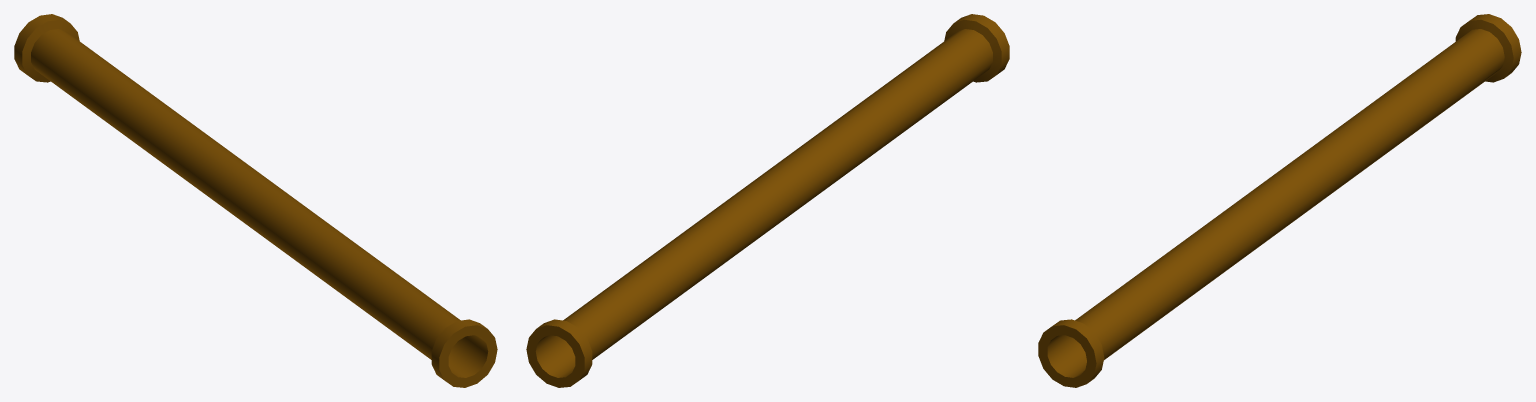
The model's file is PipePiece.fbx.
3 views of the same model, side by side, from view 1: azimuth 30°, elevation 25°; view 2: azimuth 150°, elevation 25°; view 3: azimuth 330°, elevation 25° (orthographic).
Parts seen in each view (by area): view 1: Pipe Piece; view 2: Pipe Piece; view 3: Pipe Piece.
Part boxes in pixels (x1,y1,x2,y2): Pipe Piece: (14,14,497,387); Pipe Piece: (526,14,1009,387); Pipe Piece: (1038,14,1521,387).
Bounding box in the file's own units: 1.11 × 1.11 × 14.01.
